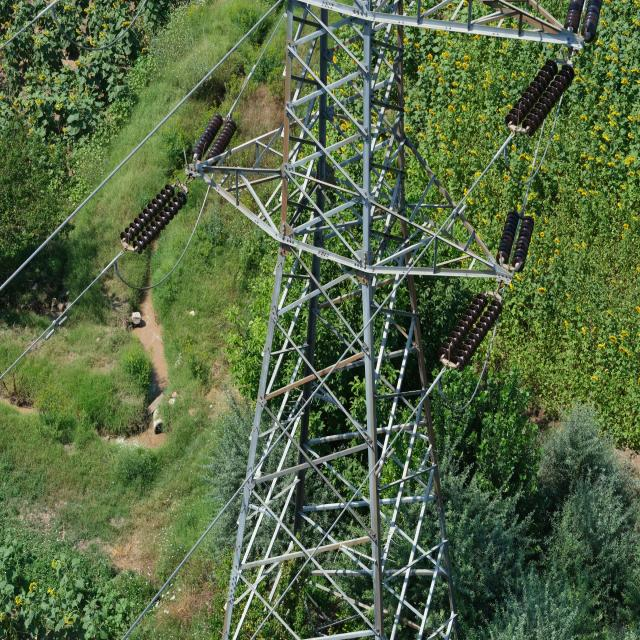direk: (231, 9, 469, 622)
tree: (526, 412, 640, 639), (0, 110, 68, 254)
